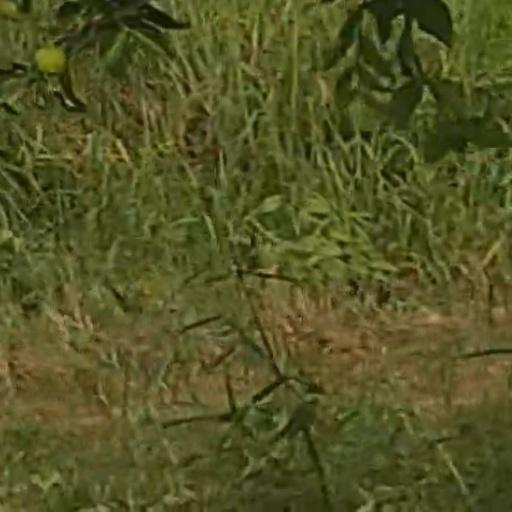acerola: (34, 45, 66, 75)
